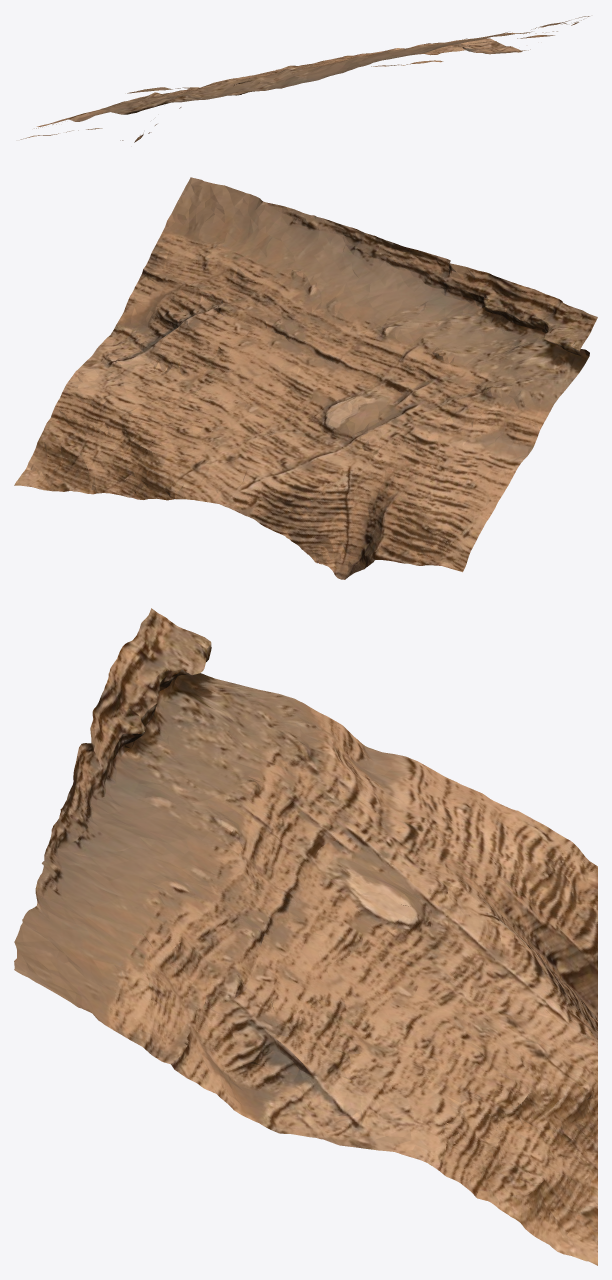
3 views of the same model, one above another, from view 1: azimuth 30°, elevation 25°; view 2: azimuth 150°, elevation 25°; view 3: azimuth 270°, elevation 25° (orthographic). The views are drawn at different scales.
Size of the model in its own units: 2.09 by 0.8594 by 1.42.
2 materials, 2 textured.
